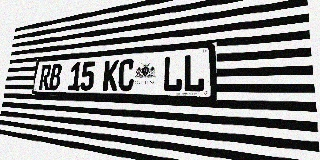1: (68, 62, 83, 90)
5: (80, 61, 96, 91)
B: (49, 64, 62, 90)
C: (117, 58, 135, 91)
K: (102, 60, 119, 91)
L: (183, 54, 205, 92), (162, 55, 183, 92)
R: (39, 64, 52, 90)
